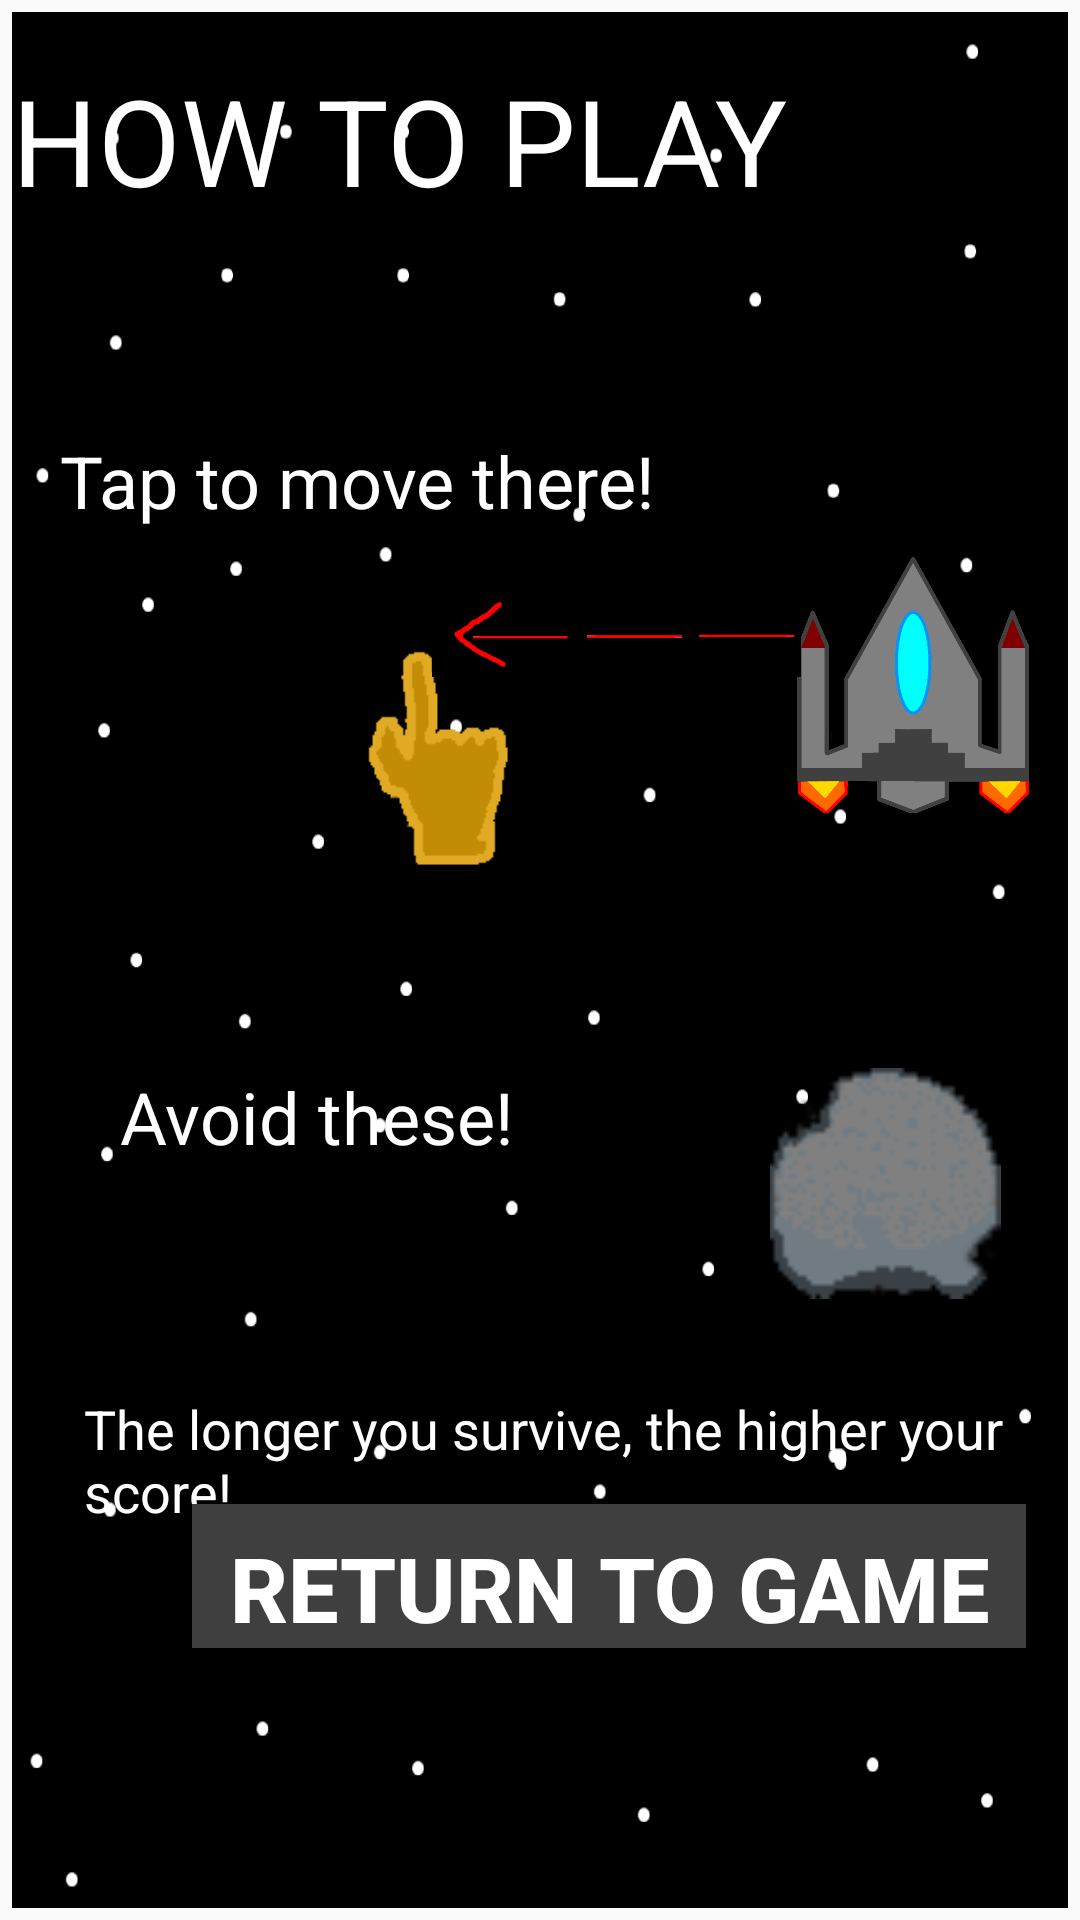

Named icons in this screenshot (1080w x 1920h) and their bounding boxes, (x1, y1, x2, y2):
gesture: (368, 552, 508, 865)
rock: (770, 1068, 1001, 1299)
